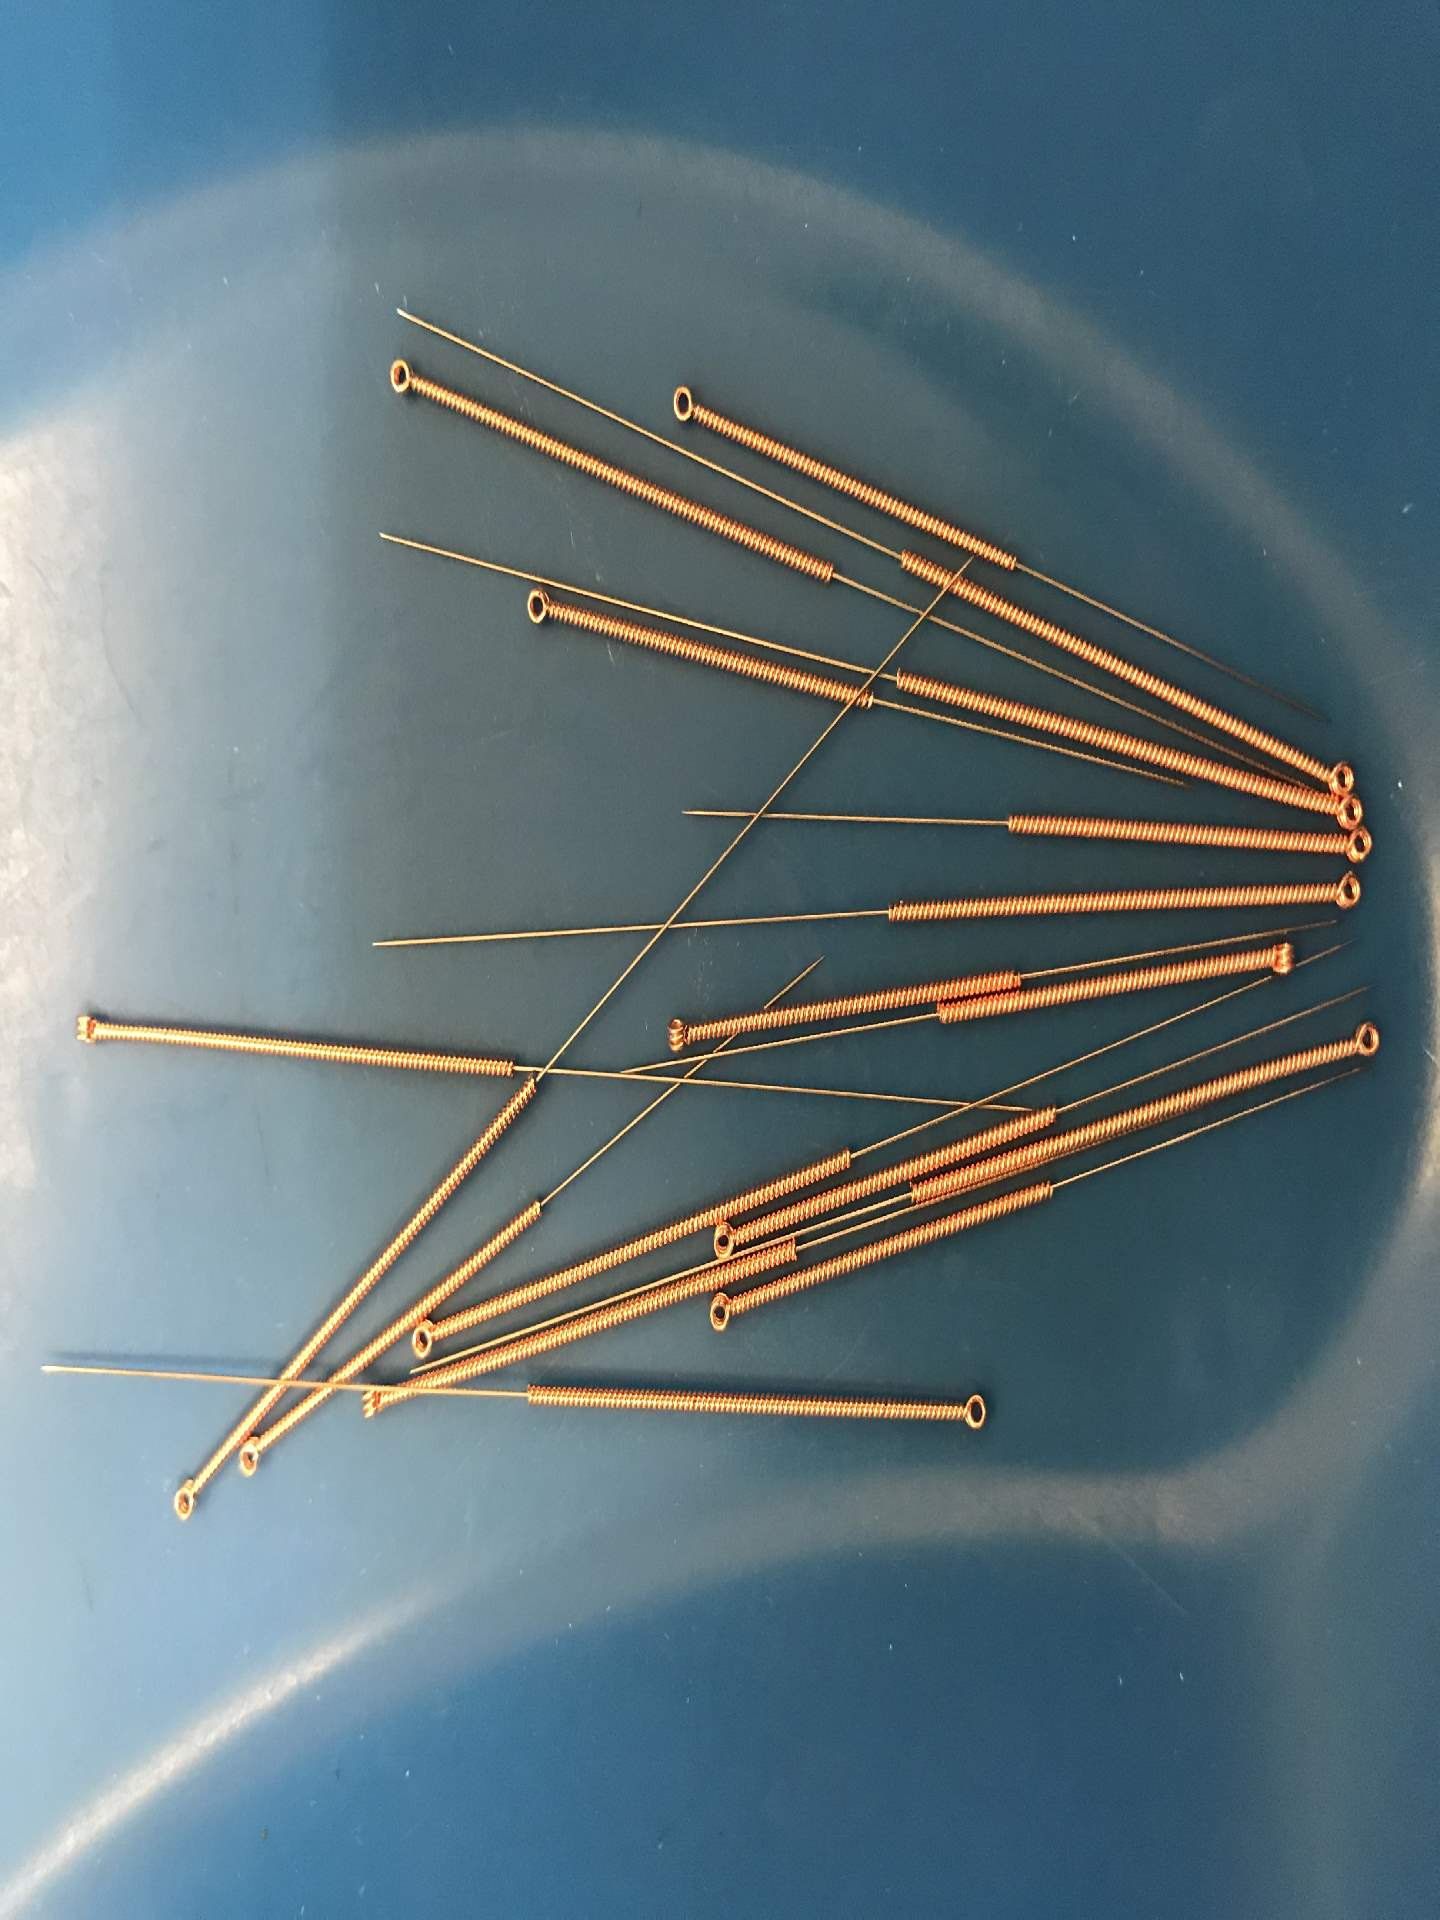needle: (57, 999, 115, 1061), (162, 1468, 209, 1531), (944, 1383, 997, 1439), (377, 349, 428, 405), (661, 375, 708, 435), (1255, 931, 1304, 989), (516, 581, 566, 635), (1321, 865, 1369, 919), (656, 1005, 703, 1061), (1342, 1011, 1389, 1066), (352, 1379, 399, 1430), (234, 1433, 274, 1488), (1317, 751, 1360, 800), (1336, 827, 1379, 871), (408, 1317, 449, 1364), (703, 1288, 740, 1336), (1325, 792, 1367, 831), (709, 1220, 746, 1262)
